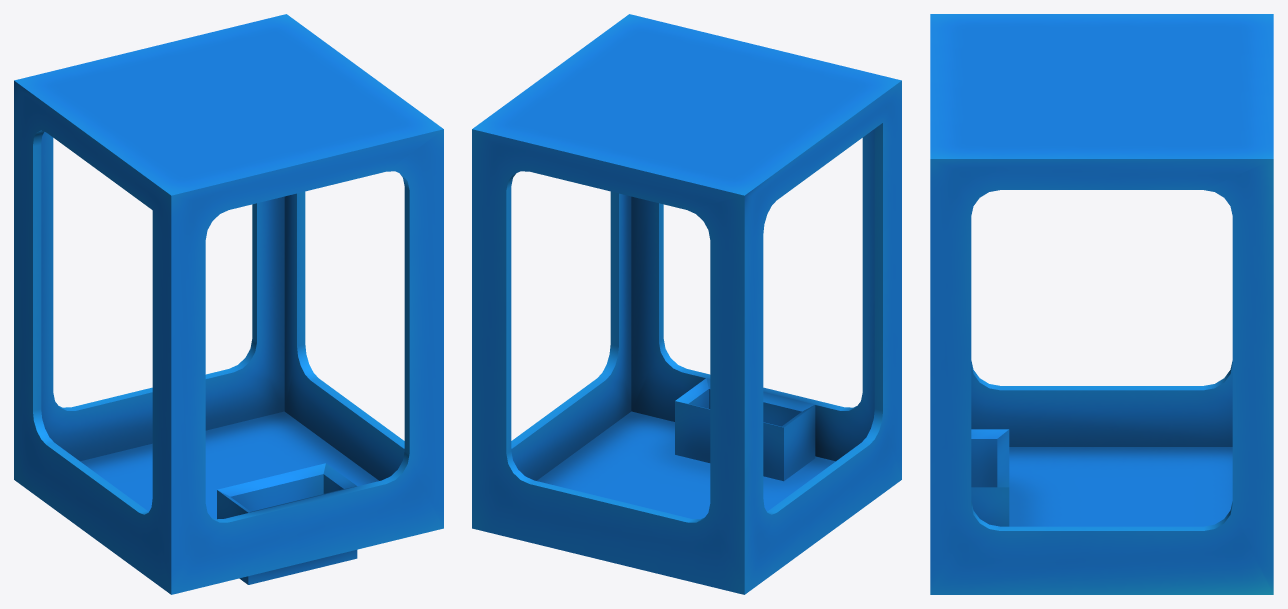
File: wwj.fbx
3 renders of one model, left to right at view 1: azimuth 30°, elevation 25°; view 2: azimuth 150°, elevation 25°; view 3: azimuth 270°, elevation 25°, orthographic. The views are drawn at different scales.
Visible parts, largest first — view 1: polySurface12; view 2: polySurface12; view 3: polySurface12.
Part boxes in pixels (x1=…): polySurface12: x1=14, y1=14, x2=443, y2=594; polySurface12: x1=472, y1=14, x2=901, y2=594; polySurface12: x1=930, y1=14, x2=1273, y2=594.
Bounding box in the file's own units: 0.05 × 0.0724 × 0.05.
